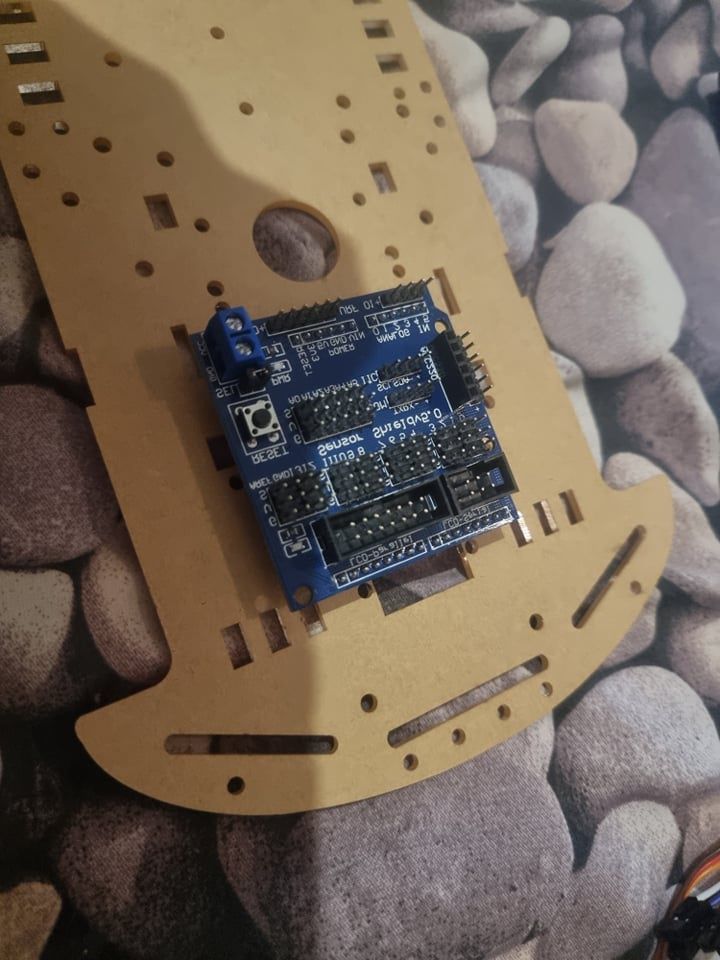5V EXPANSION: (192, 275, 522, 616)
